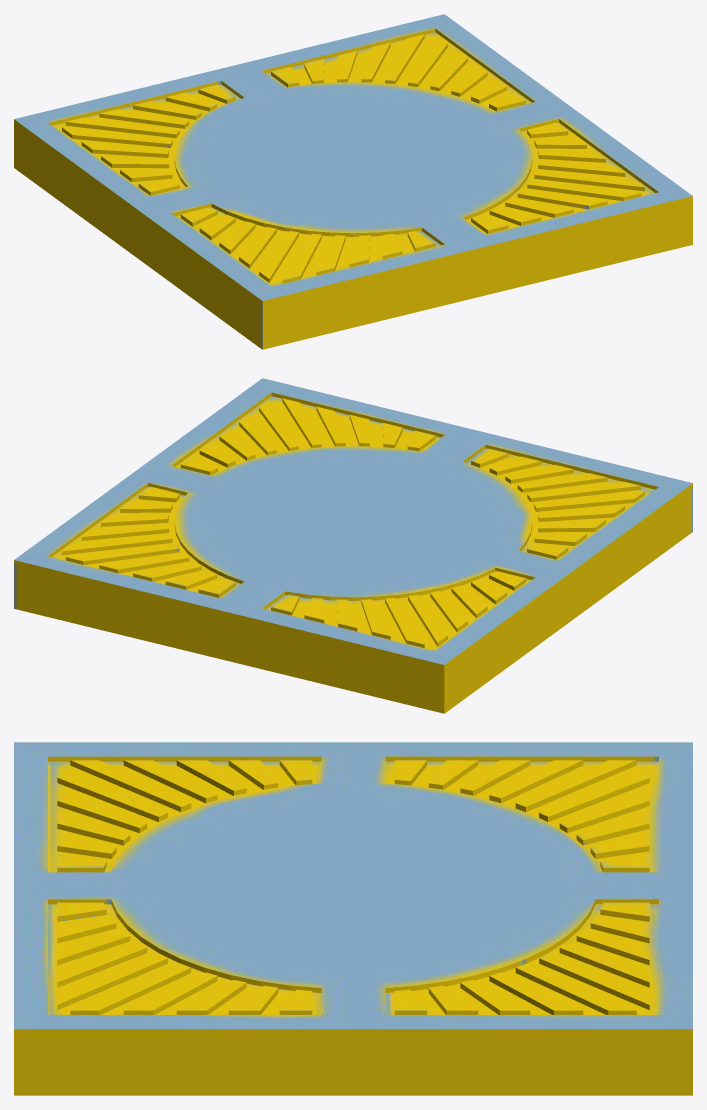
The model's file is door.obj.
3 renders of one model, top to bottom at view 1: azimuth 30°, elevation 25°; view 2: azimuth 150°, elevation 25°; view 3: azimuth 270°, elevation 25°, orthographic. The views are drawn at different scales.
Visible parts, largest first — view 1: Cube.001; view 2: Cube.001; view 3: Cube.001.
Part boxes in pixels (<box>): Cube.001: <box>14,14,692,349</box>; Cube.001: <box>14,378,692,713</box>; Cube.001: <box>14,742,692,1095</box>.
Size of the model in its own units: 0.4 by 0.0435 by 0.4.
